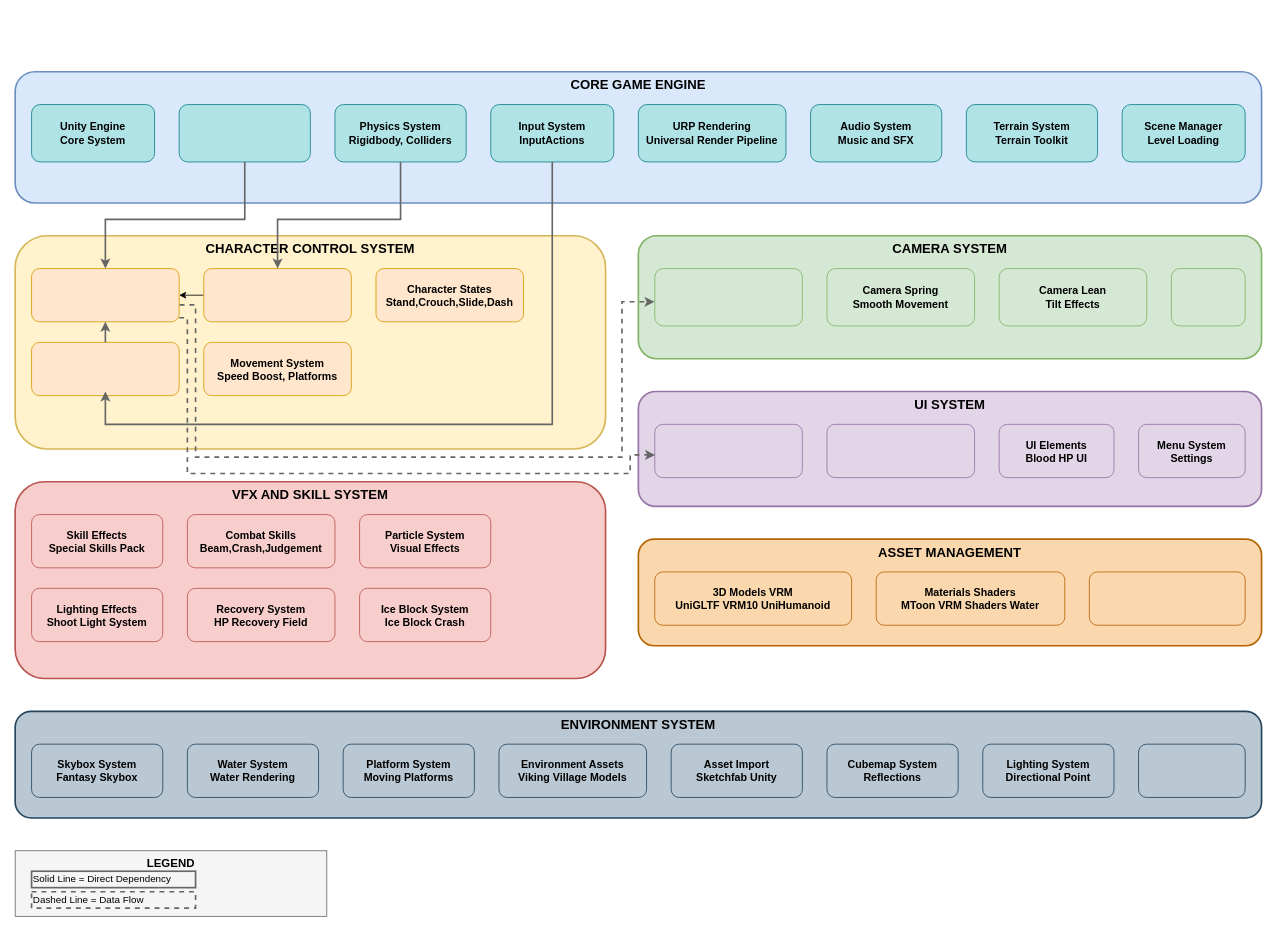
Some shapes in this 1276 by 931 pixel diagram are drawn without their labels. The centre of each missing label's shape, as x and y in pixels:
Animation System Animator Controllers: pixel 244 133
Camera Target Follow Camera: pixel 728 297
Character Input Move,Jump,Attack,Dash: pixel 105 369
Cinemachine Advanced Camera: pixel 1208 297
FastSpring Bone Physics: pixel 1167 598
HUD System Health Status Display: pixel 728 451
Kinematic Character Controller Movement Physics: pixel 277 295
PlayerCharacter Main Controller: pixel 105 295
Post Processing Effects Stack: pixel 1191 770
TextMesh Pro Text Rendering: pixel 900 451
